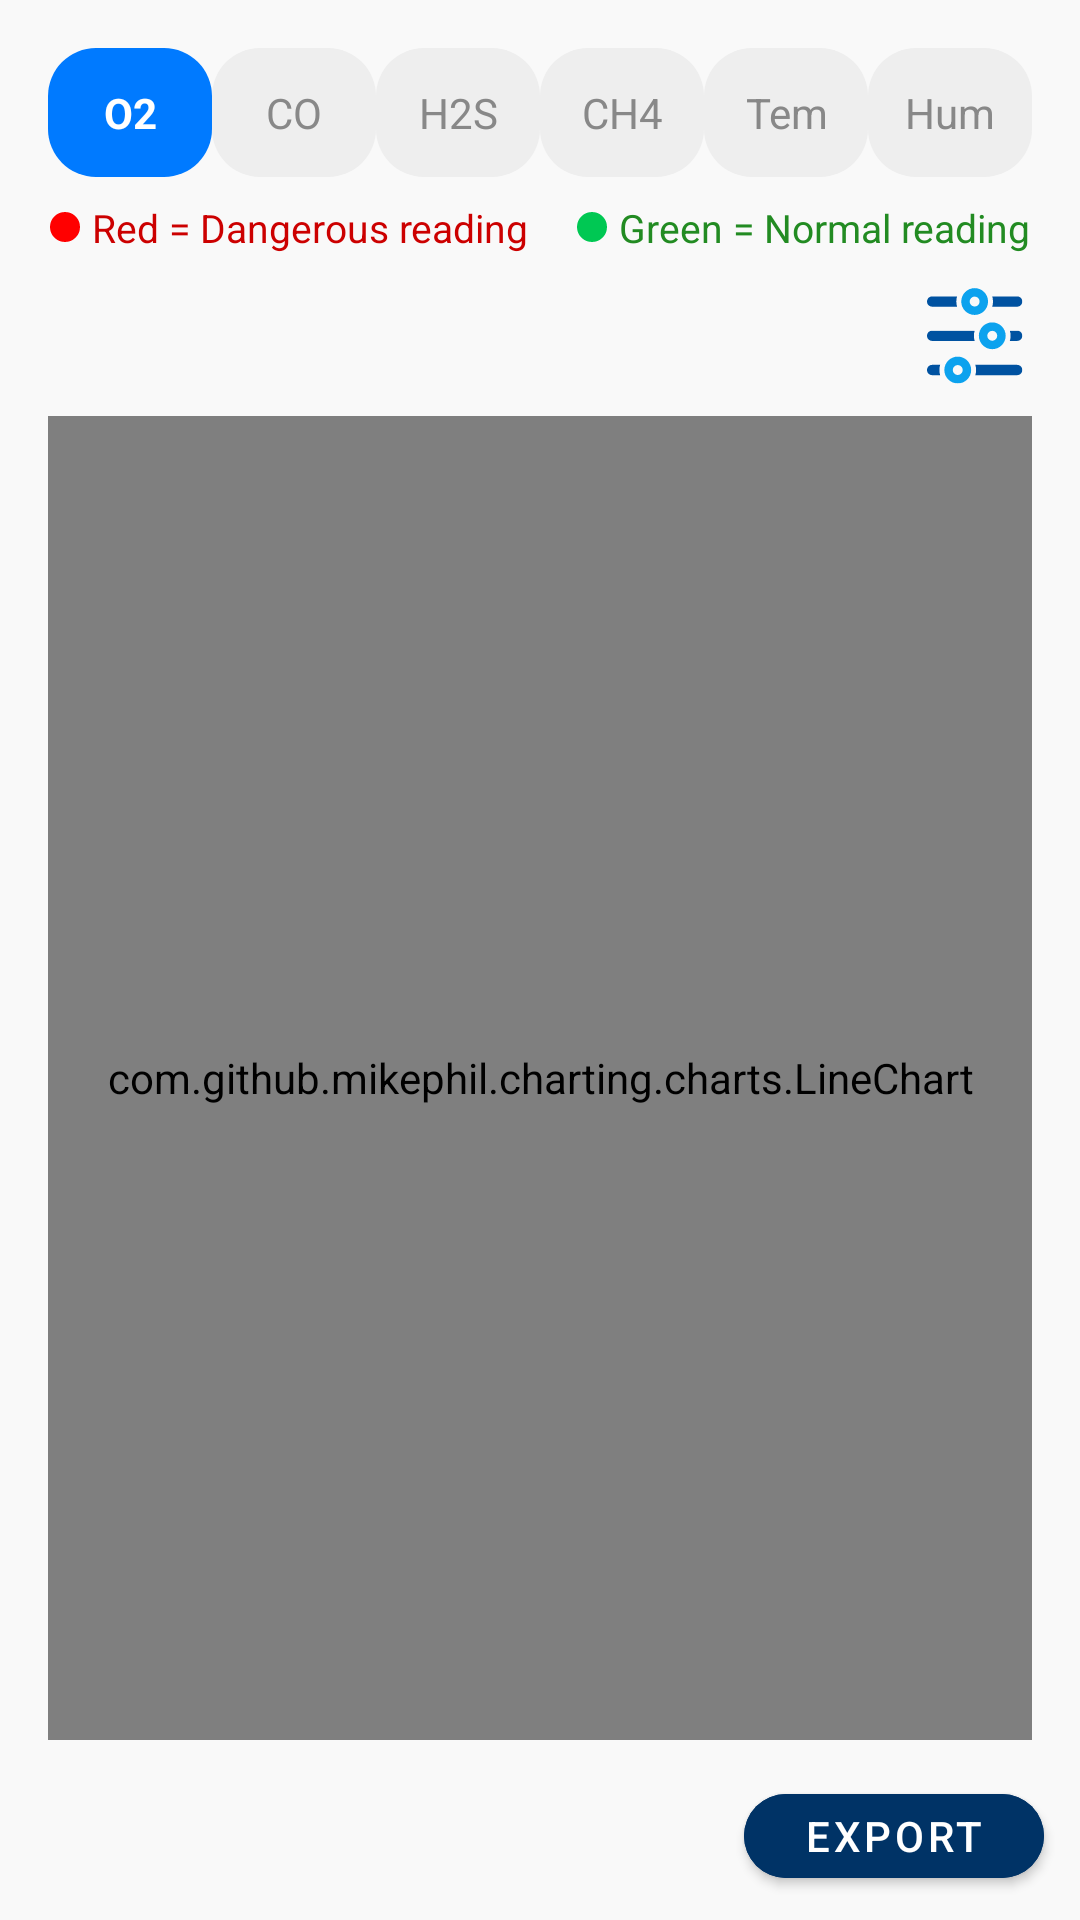

Icons on this 1080x1920 Android screen, each with the point to tap as point (x, y):
Filter: point (975, 336)
